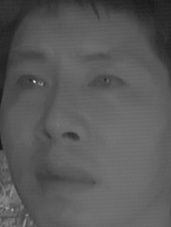eye: (84, 69, 128, 92), (13, 72, 50, 91)
mouth: (32, 156, 102, 201)
